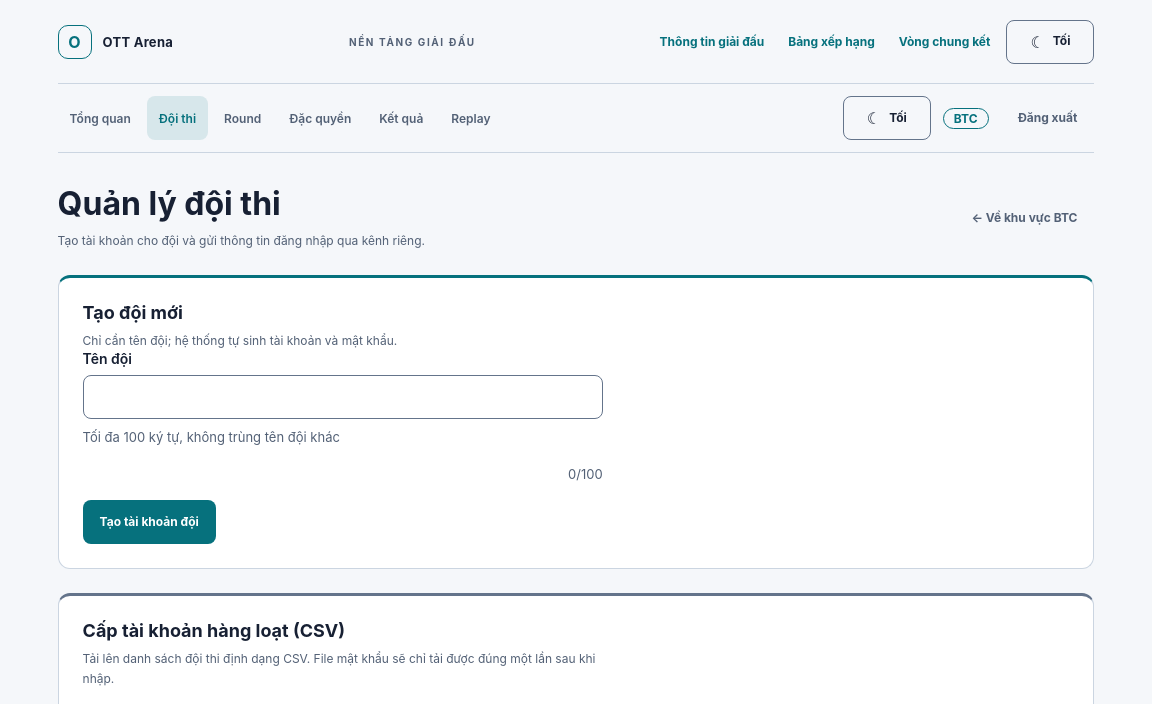
Test: admin teams UI › creating hides the create form and shows the credential card
The width and height of the screenshot is (1152, 704).
Type "Zeta" into the field labelled "Tên đội" at (343, 397), box [83, 375, 603, 419]
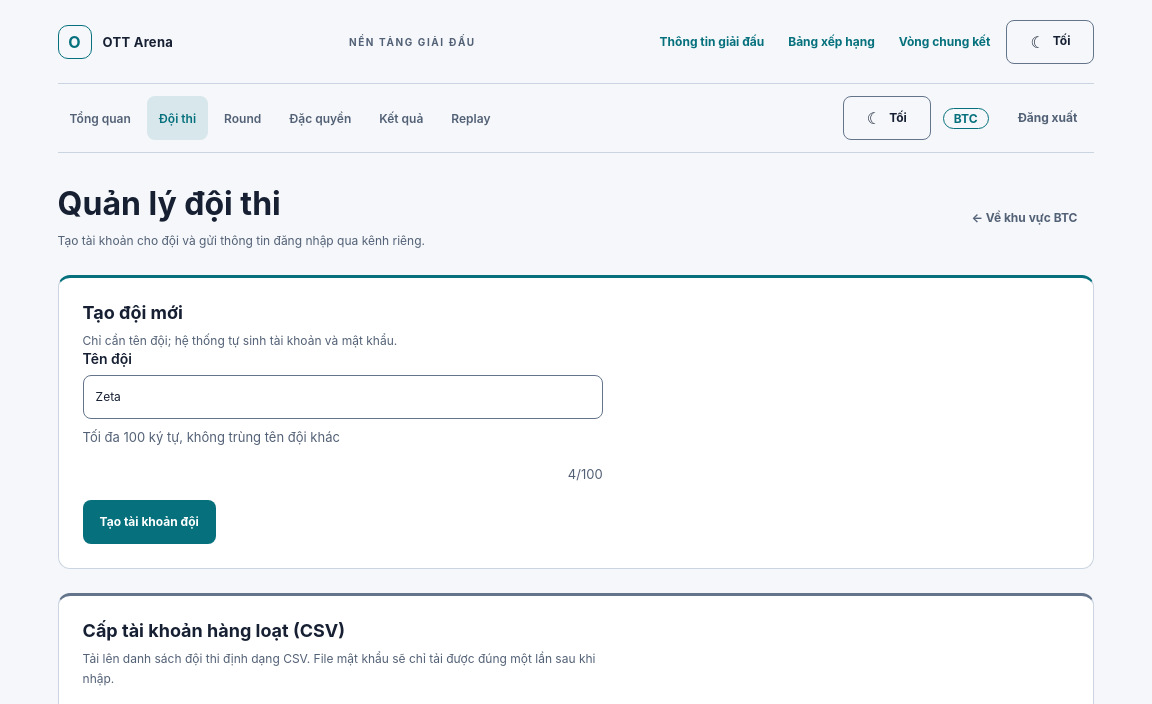
Submit the form named "tạo đội", box [83, 350, 603, 544]
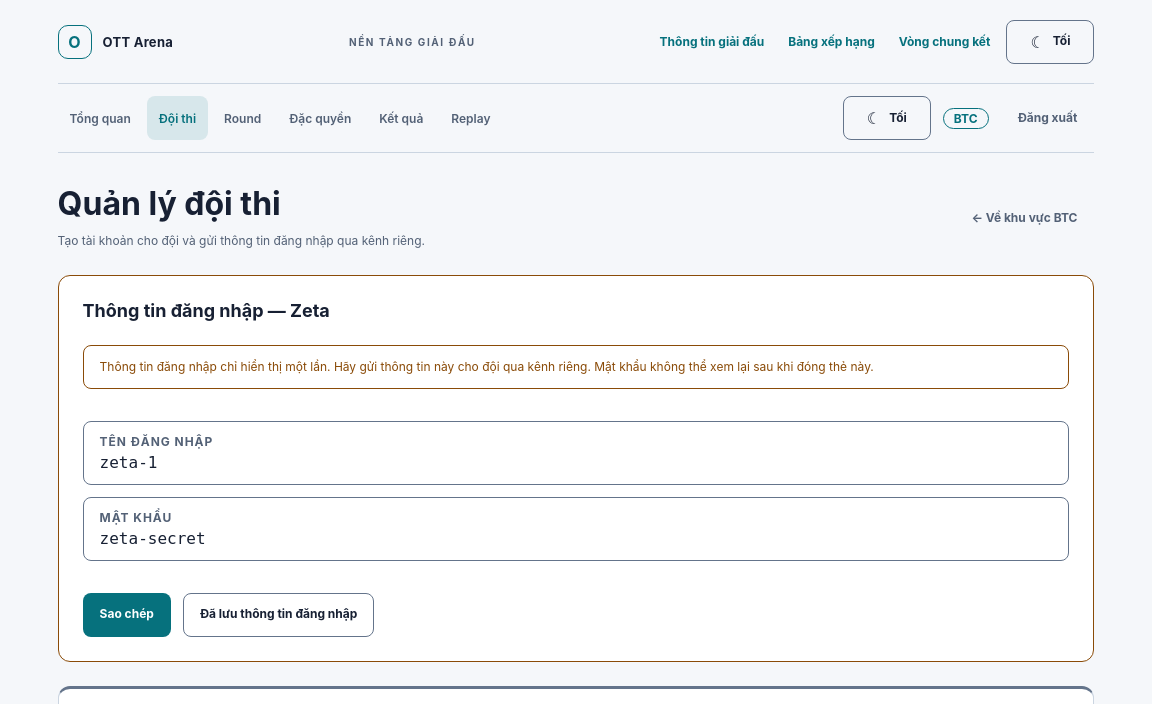
expect the text "zeta-secret" is shown: met, box [100, 529, 206, 548]
expect the heading "Tạo đội" is gone: met
expect the element named "thông tin đăng nhập tạo một lần" is shown: met, box [58, 275, 1094, 662]
